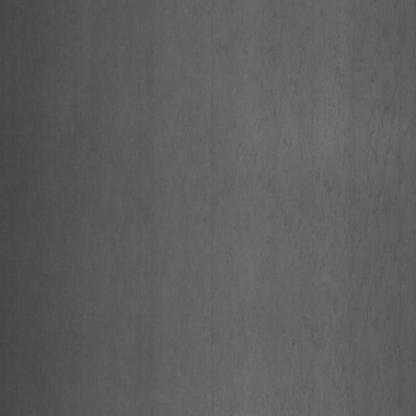silk_spot: (235, 17, 406, 378)
